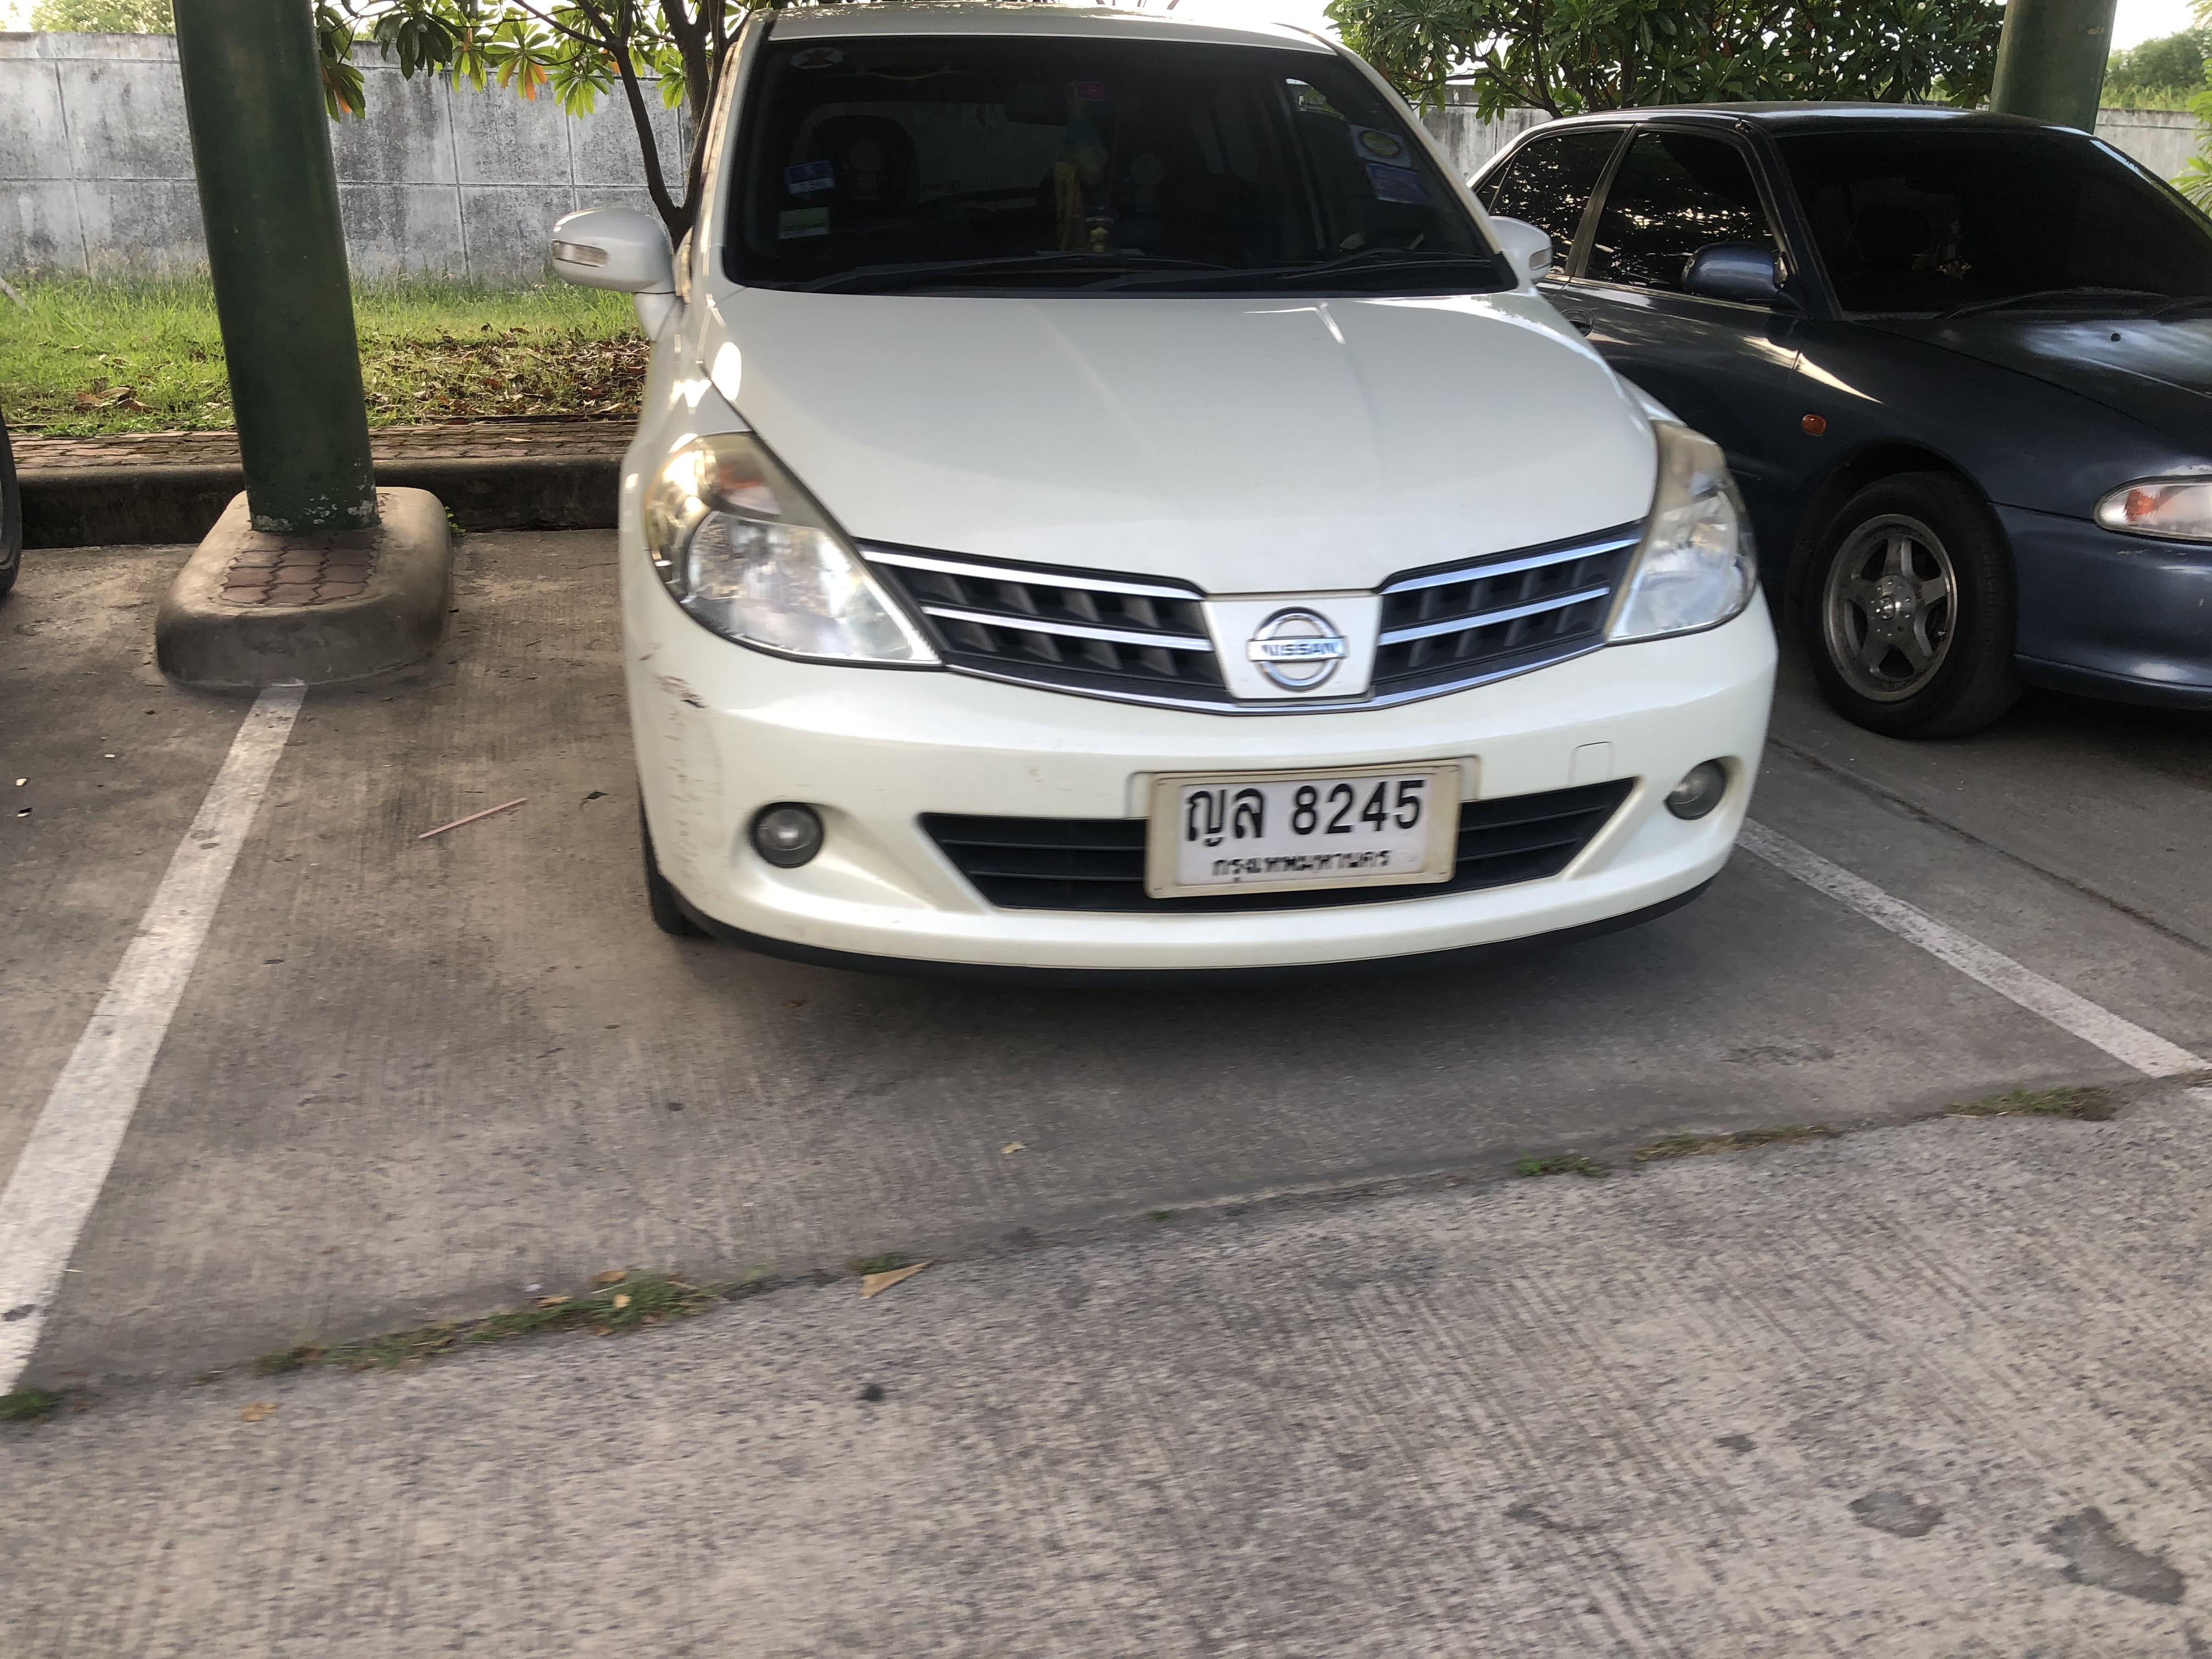in: (1179, 775, 1428, 878)
out: (1136, 753, 1470, 899)
